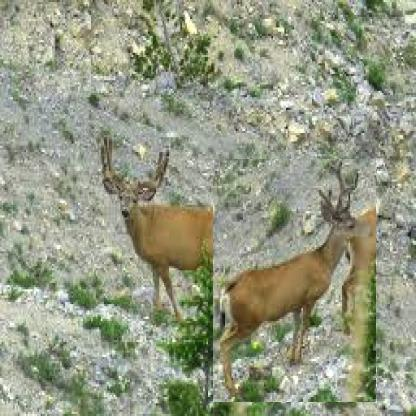Deer: (213, 159, 376, 402), (98, 134, 254, 324)
